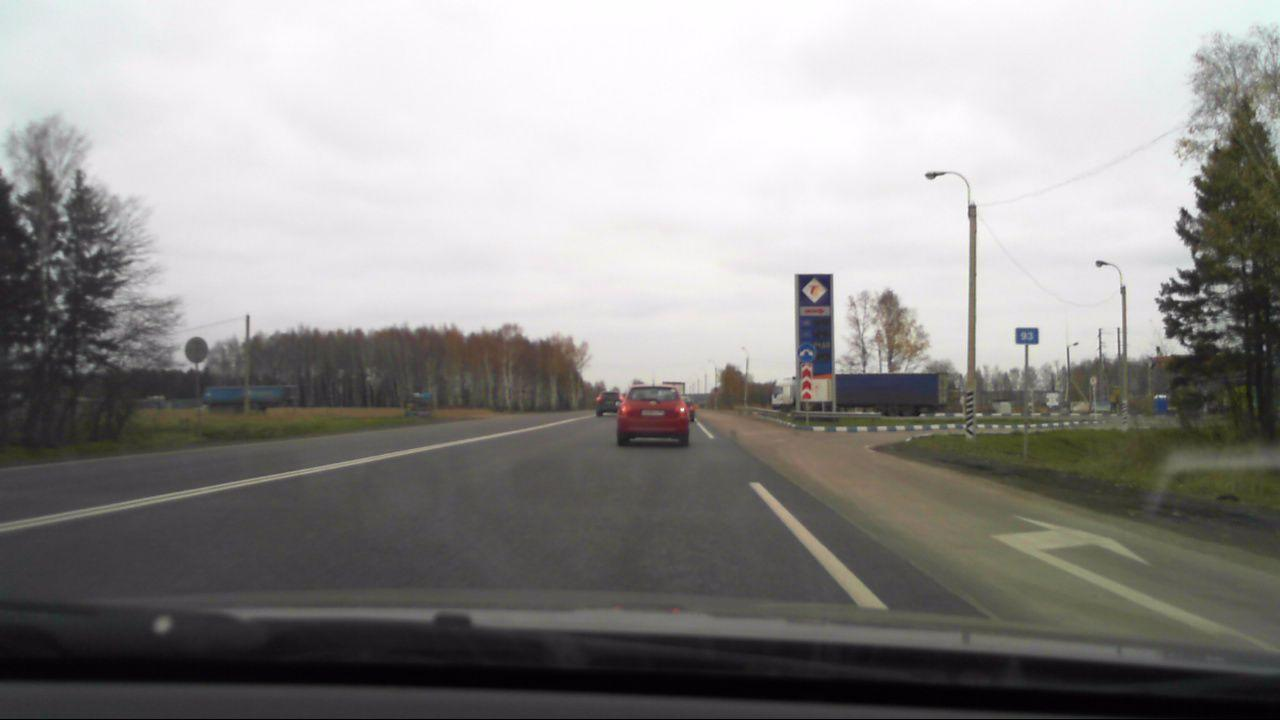4_2_3: (797, 344, 814, 361)
8_22_3: (799, 361, 814, 401)
